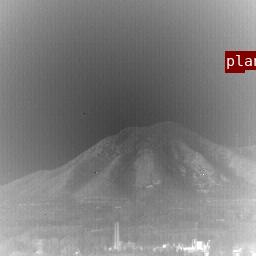plane: (225, 51, 244, 72)
